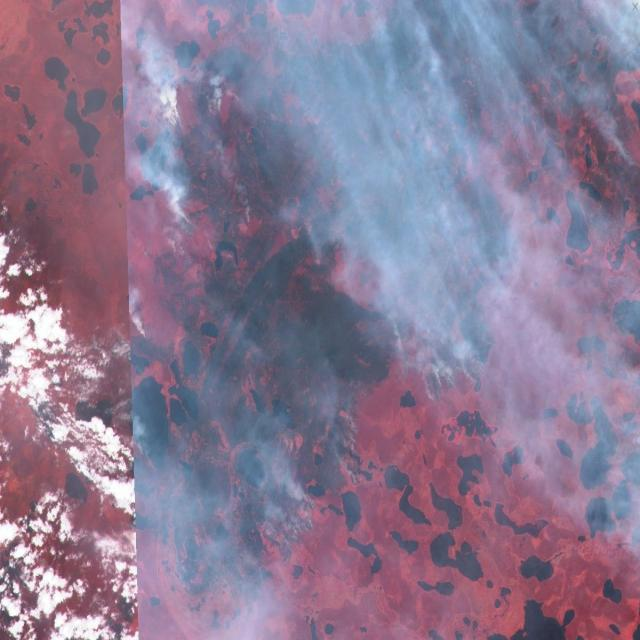fire: (153, 90, 260, 259), (392, 338, 498, 404), (130, 323, 169, 485), (175, 579, 276, 623), (342, 382, 376, 490), (280, 492, 320, 564), (616, 73, 640, 182)
